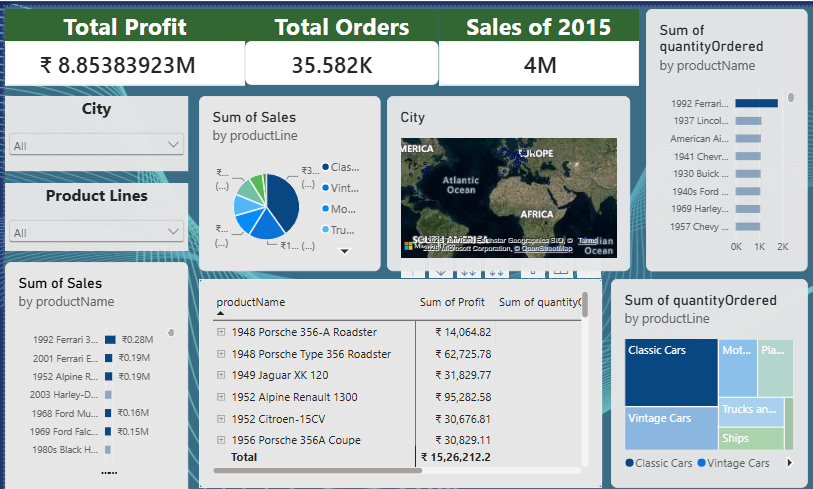

The dashboard page shown, as its layout file describes it:
{"tool":"powerbi","page":{"name":"Page 1","canvas":[1920,1080],"ordinal":0},"visuals":[{"type":"cardVisual","title":"Total Profit","fields":{"Data":["Sum(Payments.amount)"]},"box":[0,2.2,300,95.6],"z":0},{"type":"barChart","fields":{"Category":["Products.productName"],"Y":["Sum(Order_details.Sales)"]},"box":[0,318.8,228.8,291.2],"z":1000},{"type":"pieChart","fields":{"Category":["Products.productLine"],"Y":["Sum(Order_details.Sales)"]},"box":[242.2,111.1,226.7,218.9],"z":2000},{"type":"pivotTable","fields":{"Rows":["Products.productName","Products.productLine"],"Values":["Sum(Order_details.Profit)","Sum(Order_details.quantityOrdered)","Sum(Order_details.Sales)"]},"box":[242,340,504.4,261.1],"z":3000},{"type":"cardVisual","title":"Total Orders","fields":{"Data":["Sum(Order_details.quantityOrdered)"]},"box":[300,2.2,242.2,95.6],"z":5000},{"type":"cardVisual","title":"Sales of 2015","fields":{"Data":["Orders.Sales_2015"]},"box":[542.2,2.2,250,95.6],"z":7000},{"type":"map","title":"City","fields":{"Category":["Customers.city"]},"box":[477.8,111.1,304.4,218.9],"z":7001},{"type":"treemap","fields":{"Group":["Products.productLine"],"Values":["Sum(Order_details.quantityOrdered)"]},"box":[758,340,245.6,261.1],"z":7002},{"type":"clusteredBarChart","fields":{"Category":["Products.productName"],"Y":["Sum(Order_details.quantityOrdered)"]},"box":[801.1,2.2,202.2,327.8],"z":7003},{"type":"slicer","title":"City","fields":{"Values":["Customers.city"]},"box":[0,111.2,228.8,93.8],"z":7004},{"type":"slicer","title":"Product Lines","fields":{"Values":["Products.productLine"]},"box":[0,220,228.8,85],"z":7005}]}

Visuals, with their boxes on the page's 1920x1080 design canvas (x1, y1, x2, y2). These are canvas units, not pixel positions in the 813x489 screenshot, which may show the page scaled, cropped or inside an application window:
"Total Profit" cardVisual: x1=0, y1=2, x2=300, y2=98
barChart - Products.productName x Sum(Order_details.Sales): x1=0, y1=319, x2=229, y2=610
pieChart - Products.productLine x Sum(Order_details.Sales): x1=242, y1=111, x2=469, y2=330
pivotTable - Products.productName x Products.productLine: x1=242, y1=340, x2=746, y2=601
"Total Orders" cardVisual: x1=300, y1=2, x2=542, y2=98
"Sales of 2015" cardVisual: x1=542, y1=2, x2=792, y2=98
"City" map: x1=478, y1=111, x2=782, y2=330
treemap - Products.productLine x Sum(Order_details.quantityOrdered): x1=758, y1=340, x2=1004, y2=601
clusteredBarChart - Products.productName x Sum(Order_details.quantityOrdered): x1=801, y1=2, x2=1003, y2=330
"City" slicer: x1=0, y1=111, x2=229, y2=205
"Product Lines" slicer: x1=0, y1=220, x2=229, y2=305
